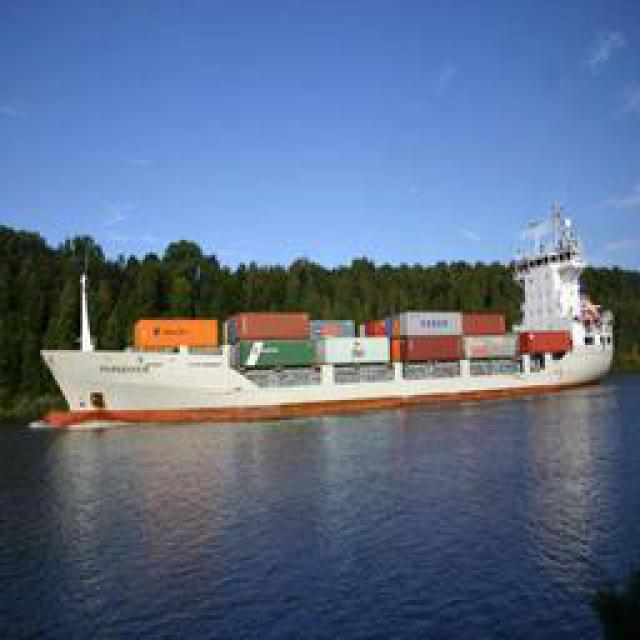Ship: (36, 229, 616, 424)
